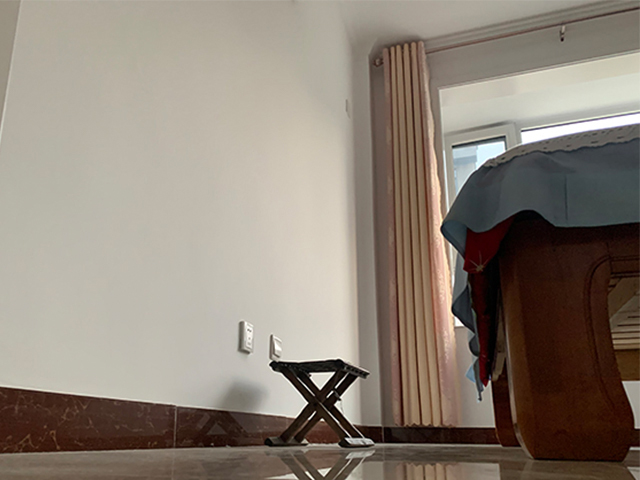bed: (439, 122, 640, 465)
curtain: (381, 41, 460, 428)
stool: (265, 358, 374, 448)
